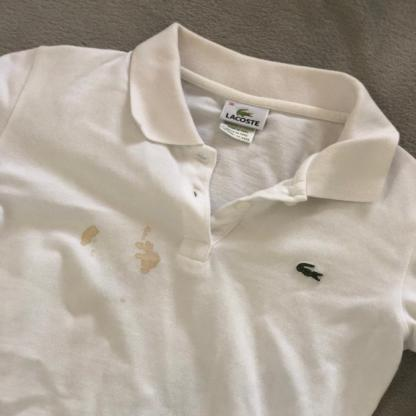coffee: (137, 240, 160, 274), (80, 226, 97, 245)
